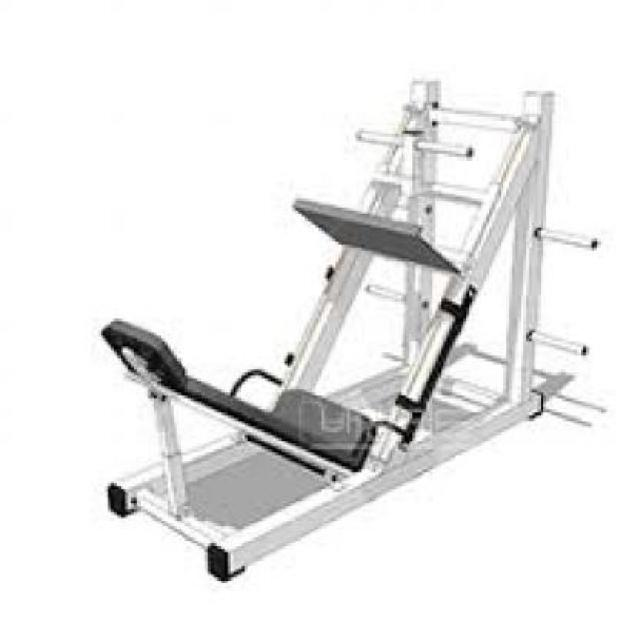leg press: (77, 53, 634, 584)
